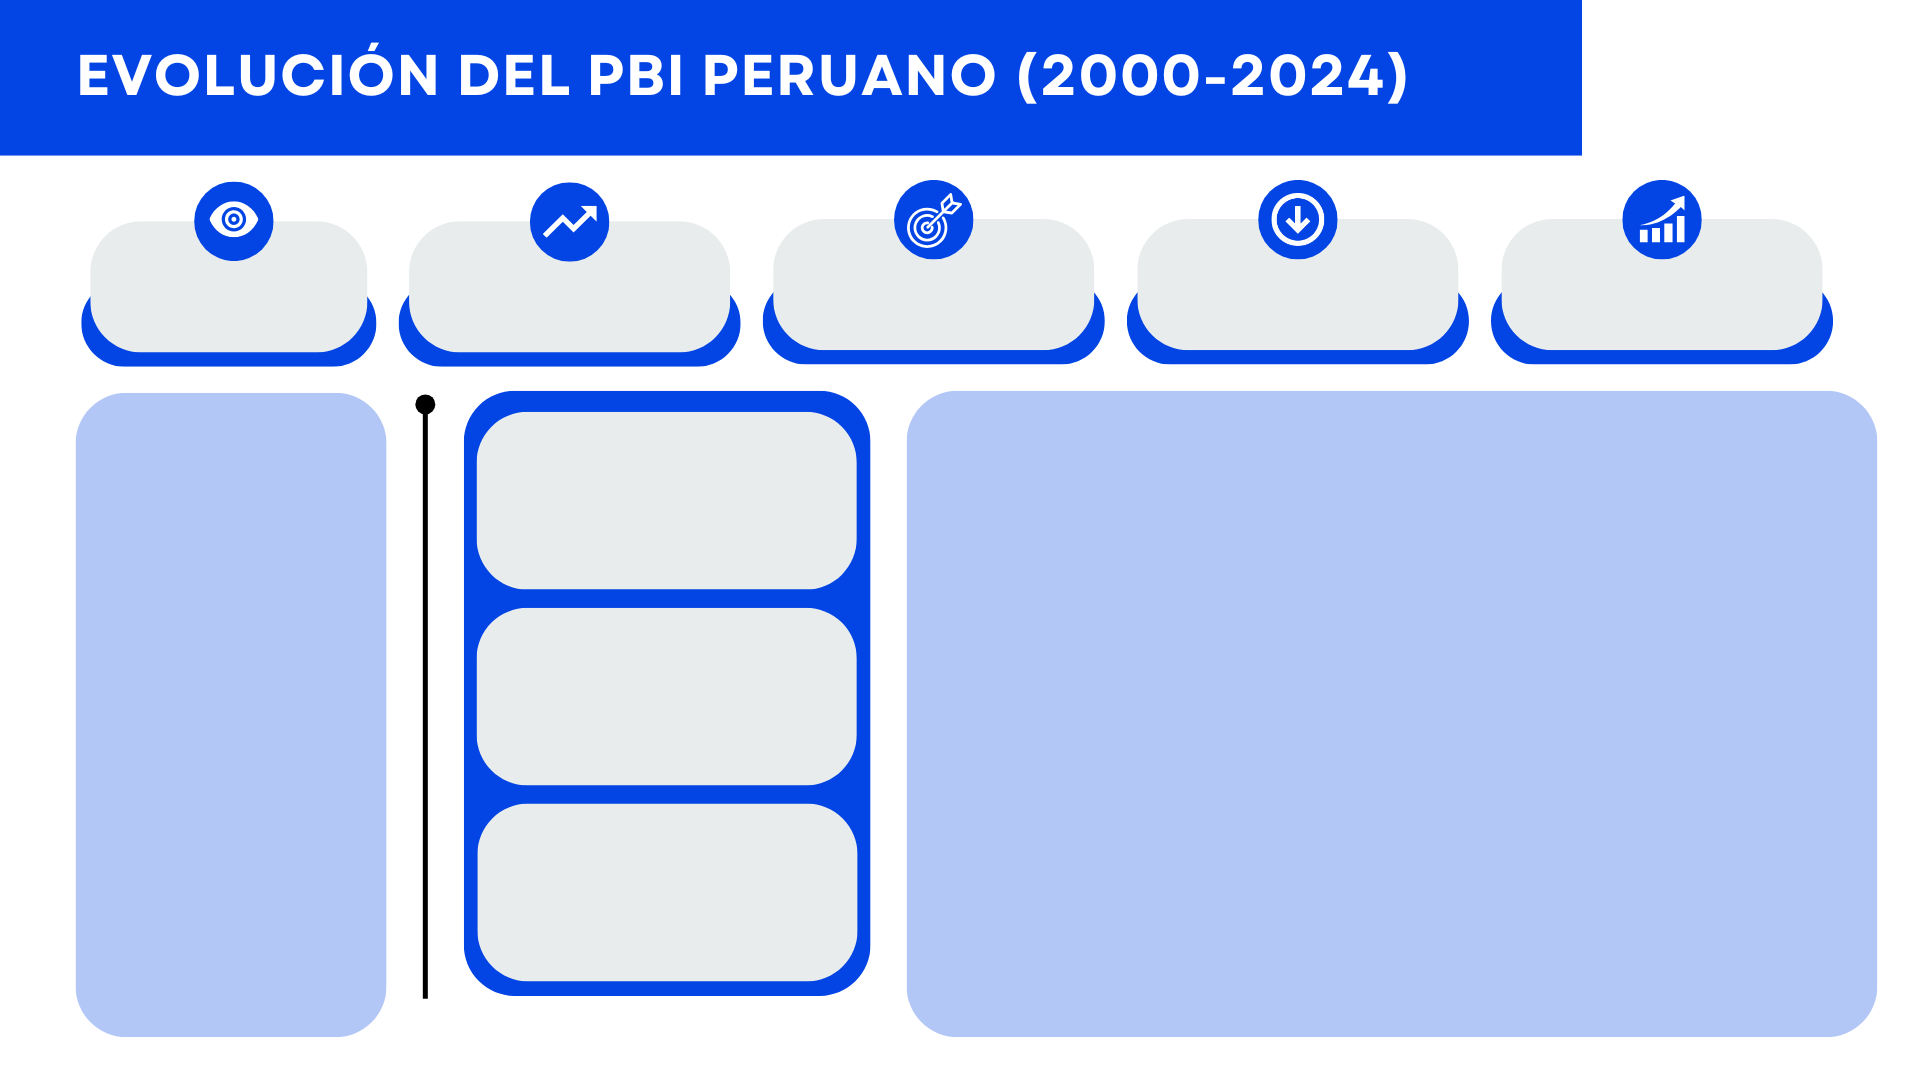

The dashboard page shown, as its layout file describes it:
{"tool":"powerbi","page":{"name":"Evolución del PBI","canvas":[1280,720],"ordinal":1},"visuals":[{"type":"slicer","title":"Lista de Años:","fields":{"Values":["Tabla General.Años"]},"box":[72.5,273.8,166.2,406.2],"z":0},{"type":"card","title":"PBI actual (2024)","fields":{"Values":["Tabla General.(millones S/ de 2007)"]},"box":[72.5,183.8,153.8,43.8],"z":1000},{"type":"card","title":"Variación Acumulada (%)","fields":{"Values":["Tabla General.Variacion General (1994 - 2024)"]},"box":[276.2,183.8,208.8,43.8],"z":2000},{"type":"card","title":"Máximo histórico de PBI","fields":{"Values":["Tabla General.Año Max PBI"]},"box":[528.8,183.8,190,43.8],"z":3000},{"type":"card","title":"Mínimo histórico de PBI","fields":{"Values":["Tabla General.Min PBI con Año"]},"box":[770,181.2,191.2,48.8],"z":4000},{"type":"card","title":"Año de mayor expansión","fields":{"Values":["Tabla General.Año Mayor Expansión"]},"box":[1001.2,181.2,206.2,46.2],"z":5000},{"type":"lineChart","title":"Evolución del PBI (2000 - 2024)","fields":{"Y":["Sum(Tabla General.PBI (Suma de Sectores))"],"Category":["Tabla General.Años"]},"box":[613.8,273.8,630,406.2],"z":6000},{"type":"card","title":"PBI del año seleccionado","fields":{"Values":["Tabla General.PBI Año Seleccionado"]},"box":[325.7,292,242.5,84.5],"z":7000},{"type":"card","title":"Variación Anual (%)","fields":{"Values":["Tabla General.Variación Anual % Texto"]},"box":[336.2,420,223.8,93.8],"z":8000},{"type":"card","title":"Sector que más creció","fields":{"Values":["Tabla General.Sector que más creció"]},"box":[328.2,552.5,231.6,95.3],"z":9000}]}

Visuals, with their boxes in screenshot pixels (x1, y1, x2, y2), scaled from the page's 1280x720 canvas onto the 1920x1080 screenshot:
"Lista de Años:" slicer: 109, 411, 358, 1020
"PBI actual (2024)" card: 109, 276, 339, 341
"Variación Acumulada (%)" card: 414, 276, 728, 341
"Máximo histórico de PBI" card: 793, 276, 1078, 341
"Mínimo histórico de PBI" card: 1155, 272, 1442, 345
"Año de mayor expansión" card: 1502, 272, 1811, 341
"Evolución del PBI (2000 - 2024)" lineChart: 921, 411, 1866, 1020
"PBI del año seleccionado" card: 489, 438, 852, 565
"Variación Anual (%)" card: 504, 630, 840, 771
"Sector que más creció" card: 492, 829, 840, 972
